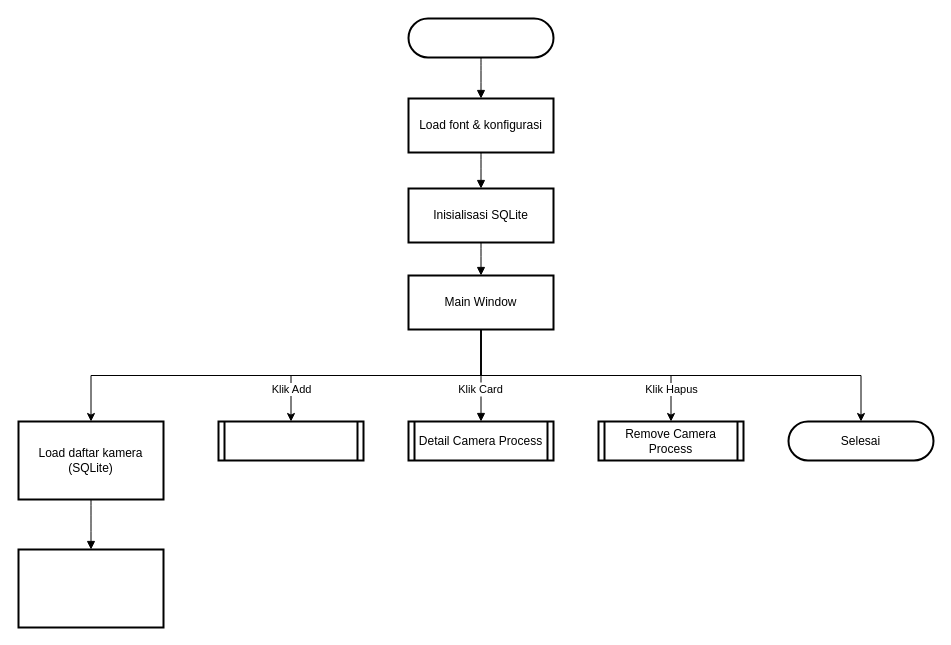
Some shapes in this 951 by 645 pixel diagram are drawn without their labels. The shapes that lost their labels are listed below. From the top down, each one's box as (x1, y1, x2, y2) in pixels, then its label:
(407, 17, 554, 58): Mulai Aplikasi
(217, 420, 364, 461): Add Camera Process
(17, 548, 164, 628): Tampilkan list & preview singkat
